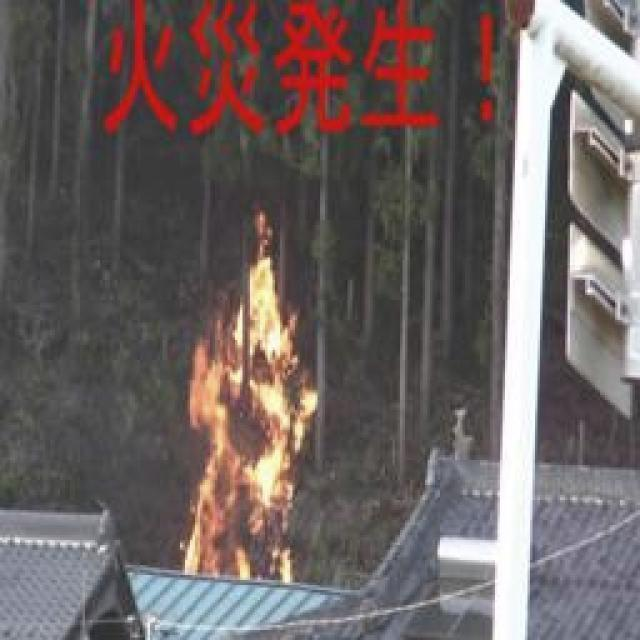Fire: (184, 213, 320, 587)
